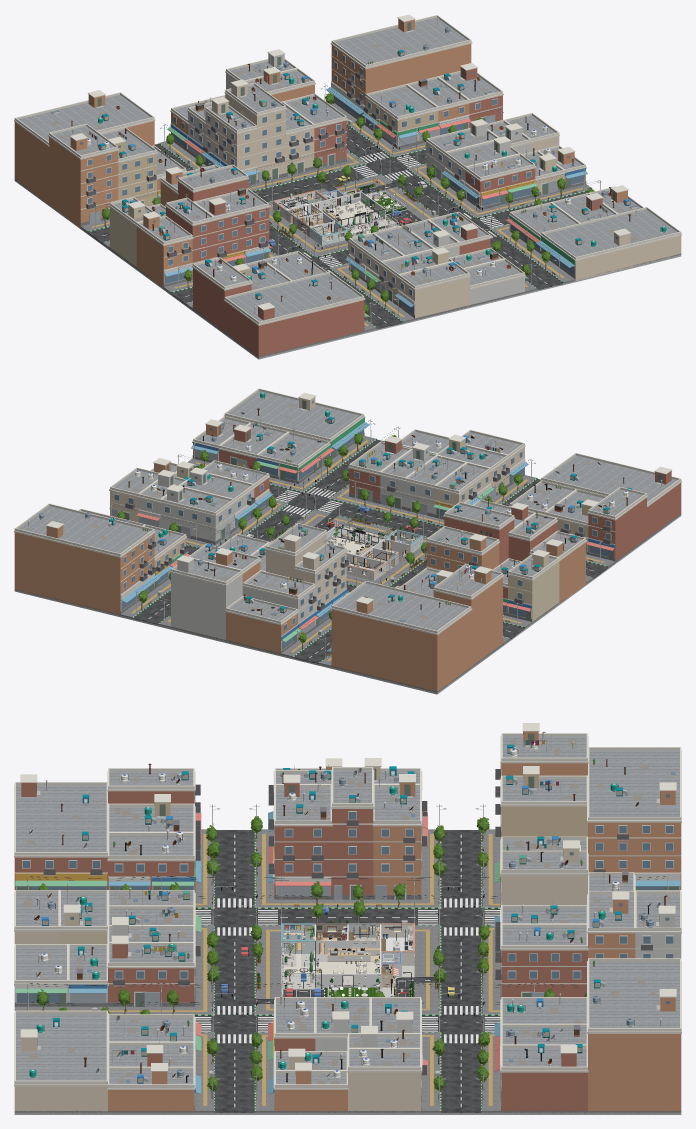
File: tehran_with_cafe_v15_asphalt.glb
3 views of the same model, one above another, from view 1: azimuth 30°, elevation 25°; view 2: azimuth 150°, elevation 25°; view 3: azimuth 270°, elevation 25° (orthographic). The views are drawn at different scales.
Visible parts, largest first — view 1: Rooftop_RoofIsogam, Sidewalk_Blocks, Bld_33_mall_Mesh, Bld_45_mall_Mesh, Bld_38_apt_Mesh, Roads_Extension, Asphalt, Bld_37_mall_Mesh, Bld_41_mall_Mesh, Bld_23_shop_Mesh, Rooftop_Env_Cornice, Bld_28_shop_Mesh (+38 smaller); view 2: Rooftop_RoofIsogam, Bld_33_mall_Mesh, Bld_41_mall_Mesh, Sidewalk_Blocks, Bld_07_apt_Mesh, Roads_Extension, Asphalt, Bld_42_shop_Mesh, Bld_38_apt_Mesh, Bld_05_shop_Mesh, Rooftop_Env_Cornice, Bld_26_shop_Mesh (+37 smaller); view 3: Rooftop_RoofIsogam, Roads_Extension, Asphalt, Sidewalk_Blocks, Bld_33_mall_Mesh, Bld_41_mall_Mesh, Bld_23_shop_Mesh, Bld_03_apt_Mesh, Rooftop_Env_Cornice, Bld_32_apt_Mesh, Bld_24_apt_Mesh, Bld_45_mall_Mesh (+37 smaller).
Part boxes in pixels (x1,y1,x2,y2): Rooftop_RoofIsogam: (18,17,677,321); Sidewalk_Blocks: (14,103,680,358); Bld_33_mall_Mesh: (326,15,472,125); Bld_45_mall_Mesh: (223,271,369,357); Bld_38_apt_Mesh: (48,123,119,227); Roads_Extension: (88,125,594,328); Asphalt: (253,158,489,269); Bld_37_mall_Mesh: (535,207,681,280); Bld_41_mall_Mesh: (14,92,155,204); Bld_23_shop_Mesh: (193,188,272,266); Rooftop_Env_Cornice: (51,14,637,310); Bld_28_shop_Mesh: (136,215,193,288); Rooftop_RoofIsogam: (18,391,677,630); Bld_33_mall_Mesh: (14,503,160,615); Bld_41_mall_Mesh: (326,581,472,691); Sidewalk_Blocks: (15,436,681,692); Bld_07_apt_Mesh: (170,558,243,641); Roads_Extension: (133,439,607,664); Asphalt: (246,493,442,592); Bld_42_shop_Mesh: (586,487,647,561); Bld_38_apt_Mesh: (433,564,503,667); Bld_05_shop_Mesh: (225,596,301,653); Rooftop_Env_Cornice: (46,392,671,622); Bld_26_shop_Mesh: (506,554,559,621); Rooftop_RoofIsogam: (16,736,679,1084); Roads_Extension: (194,830,500,1113); Asphalt: (214,909,481,1032); Sidewalk_Blocks: (14,829,681,1113); Bld_33_mall_Mesh: (587,958,681,1112); Bld_41_mall_Mesh: (587,747,681,889); Bld_23_shop_Mesh: (268,784,332,899); Bld_03_apt_Mesh: (495,924,588,999); Rooftop_Env_Cornice: (20,723,676,1084); Bld_32_apt_Mesh: (500,1044,588,1112); Bld_24_apt_Mesh: (331,767,374,899); Bld_45_mall_Mesh: (14,782,108,889).
Bounding box in the file's own units: 100 × 19.03 × 100.
Materials: 304 (19 with a texture image).
